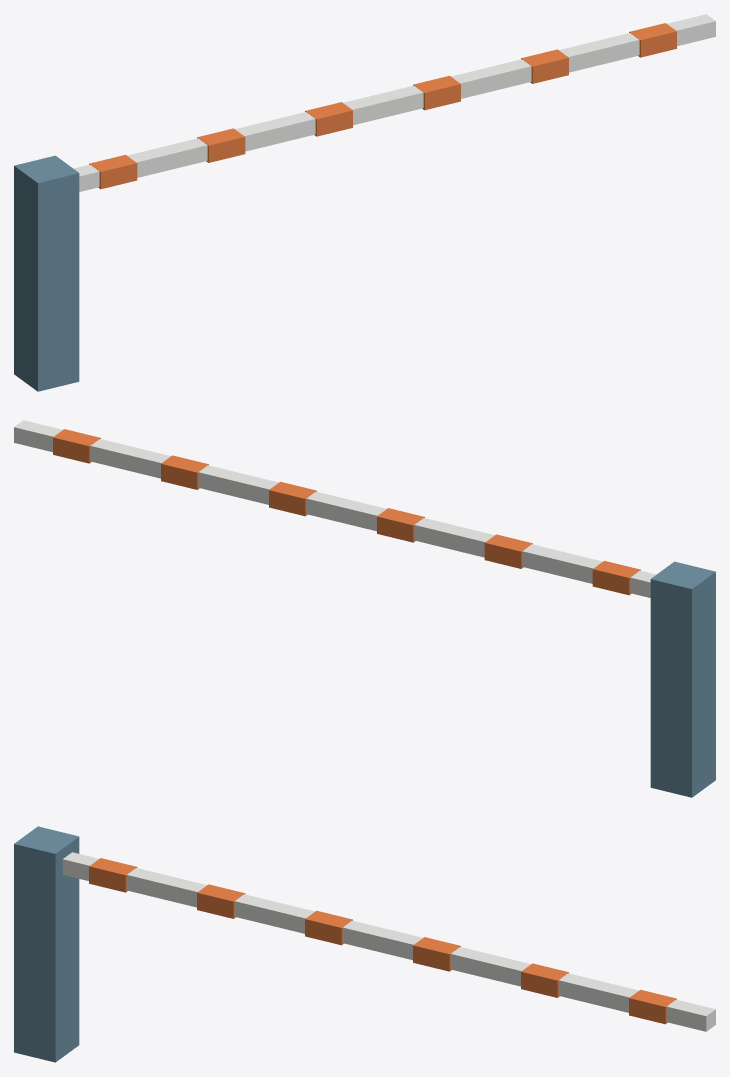
The model's file is long-haul-trucking-and-truck-stop-barrier-gate-a45430b2__13999.glb.
3 renders of one model, top to bottom at view 1: azimuth 30°, elevation 25°; view 2: azimuth 150°, elevation 25°; view 3: azimuth 330°, elevation 25°, orthographic.
Parts seen in each view (by area): view 1: barrier-gate; view 2: barrier-gate; view 3: barrier-gate.
Boxes of the visible parts, box(x1,y1,x2,y2) form: barrier-gate: box(14, 14, 715, 391); barrier-gate: box(14, 420, 715, 797); barrier-gate: box(14, 826, 715, 1062).
Size of the model in its own units: 4.12 by 1.2 by 0.2499.
